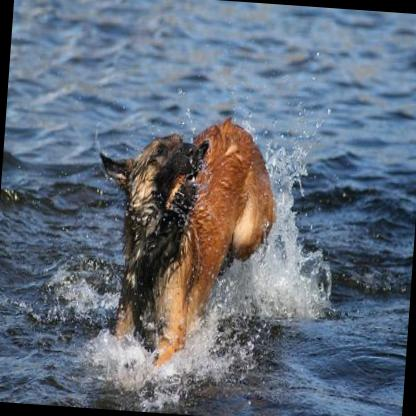malinois: (83, 106, 282, 372)
